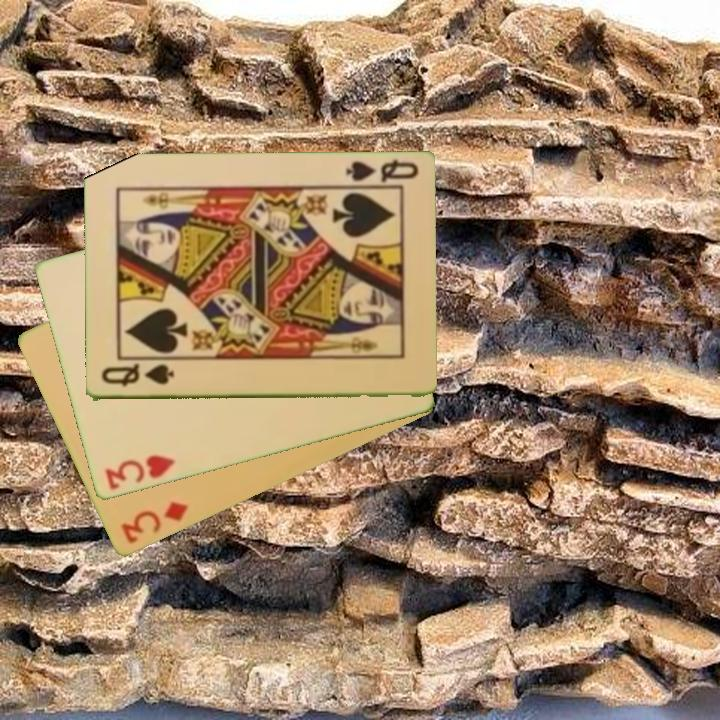3d: (117, 498, 191, 547)
3h: (101, 451, 178, 493)
Qs: (340, 156, 420, 190), (97, 363, 176, 390)
